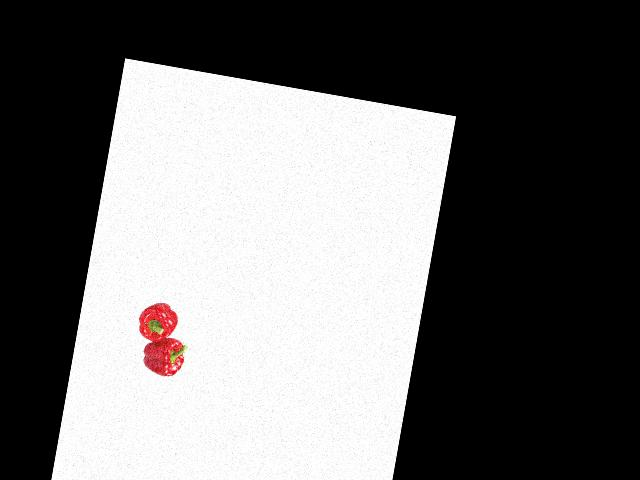bell_pepper: (136, 331, 190, 380)
